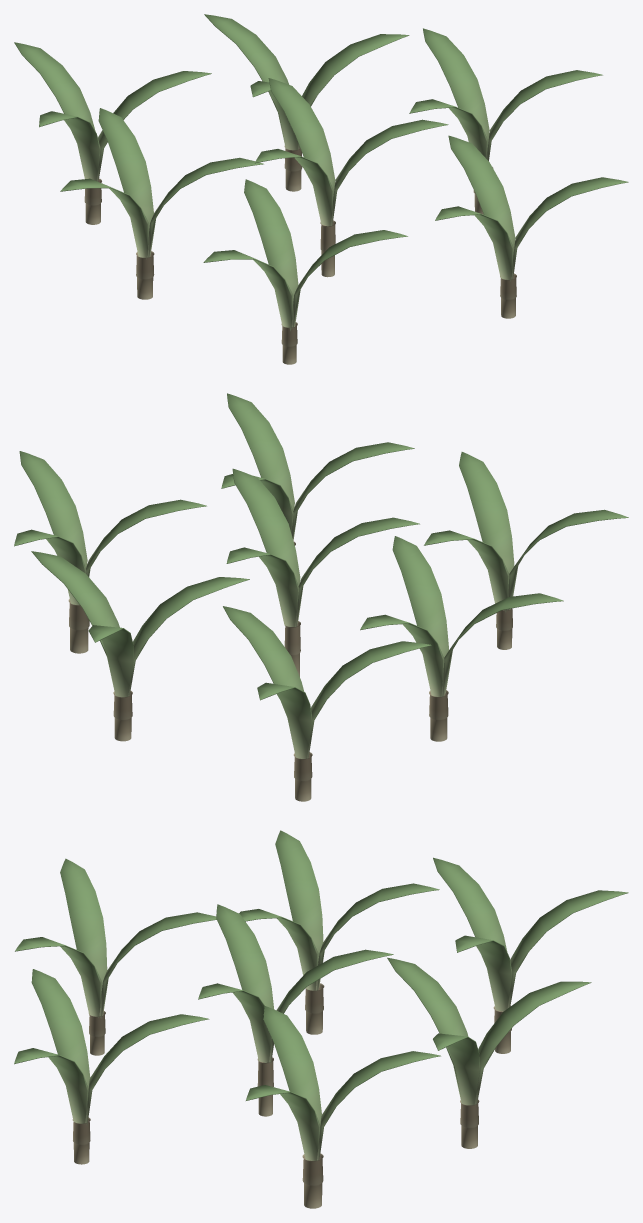
Rendered from Sugarcane_STAGE1.fbx.
3 views of the same model, one above another, from view 1: azimuth 30°, elevation 25°; view 2: azimuth 150°, elevation 25°; view 3: azimuth 270°, elevation 25° (orthographic). The views are drawn at different scales.
Visible parts, largest first — view 1: Sugarcane_STAGE1; view 2: Sugarcane_STAGE1; view 3: Sugarcane_STAGE1.
Boxes of the visible parts, left/top/right/bottom form: Sugarcane_STAGE1: left=14, top=14, right=628, bottom=364; Sugarcane_STAGE1: left=14, top=393, right=628, bottom=801; Sugarcane_STAGE1: left=14, top=830, right=628, bottom=1208.
Bounding box in the file's own units: 1.12 × 1.17 × 0.3215.
